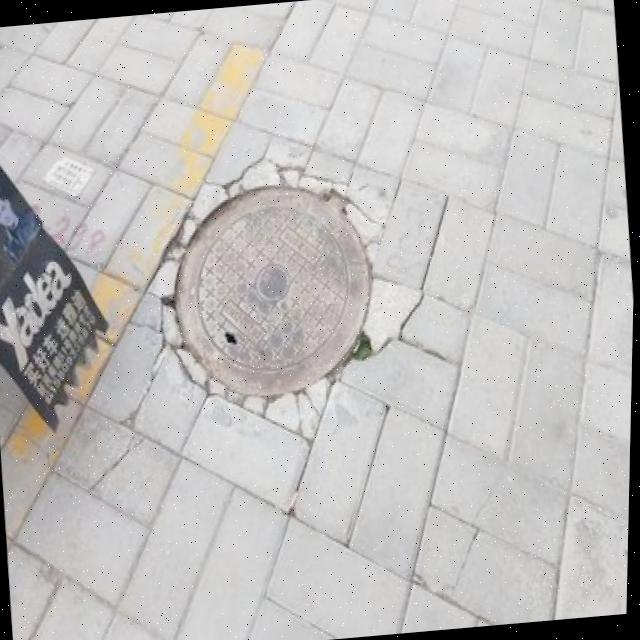manhole: (149, 156, 397, 404)
